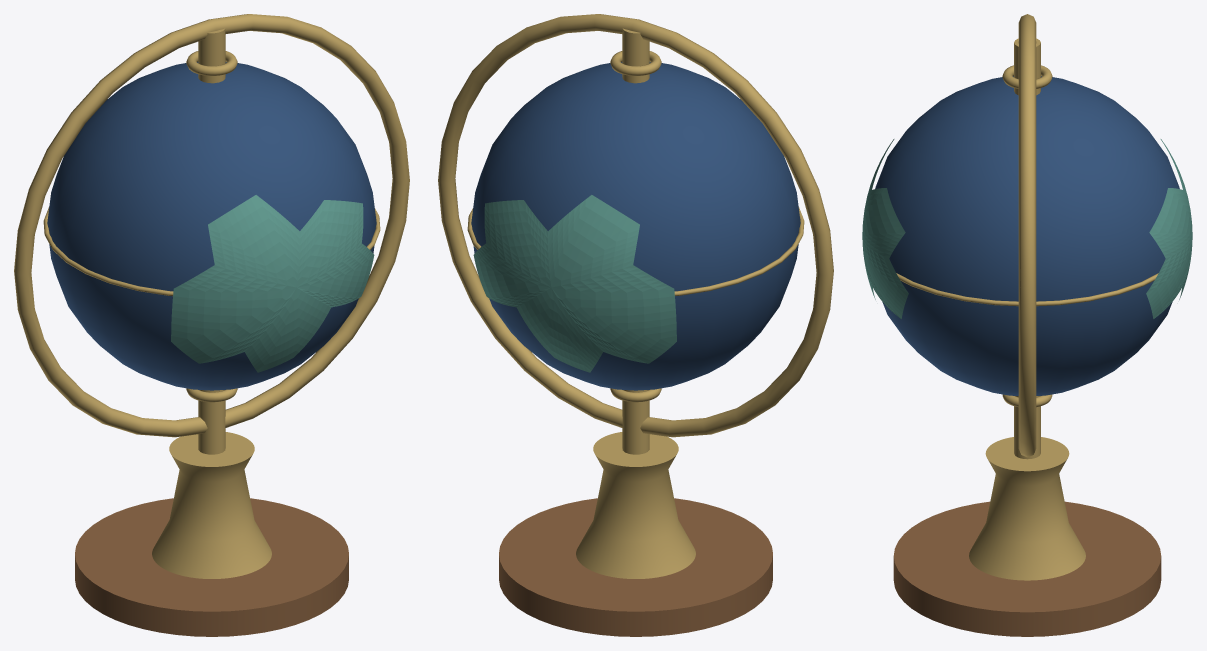
The model's file is fantasy-cartographers-map-printing-guild-rotating-fant-336c5b51__32269.glb.
The picture shows the model from 3 angles, left to right: view 1: azimuth 30°, elevation 25°; view 2: azimuth 150°, elevation 25°; view 3: azimuth 270°, elevation 25°; orthographic projection. The views are drawn at different scales.
Visible parts, largest first — view 1: rotating-fantasy-globe; view 2: rotating-fantasy-globe; view 3: rotating-fantasy-globe.
Part boxes in pixels (bbox=[...]): rotating-fantasy-globe: bbox=[14, 14, 409, 636]; rotating-fantasy-globe: bbox=[438, 14, 833, 636]; rotating-fantasy-globe: bbox=[862, 14, 1192, 636].
Size of the model in its own units: 1.06 by 1.44 by 0.79.
